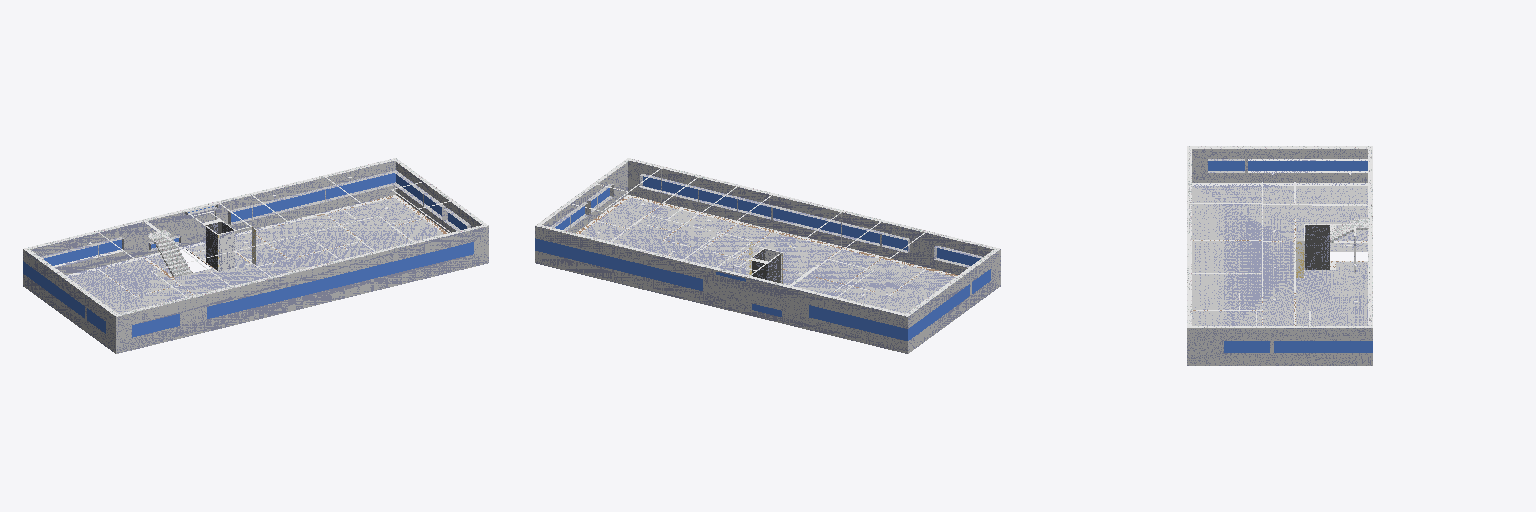
3 views of the same model, side by side, from view 1: azimuth 30°, elevation 25°; view 2: azimuth 150°, elevation 25°; view 3: azimuth 270°, elevation 25° (orthographic).
Parts seen in each view (by area): view 1: Mesh23 Model; view 2: Mesh23 Model; view 3: Mesh23 Model.
Boxes of the visible parts, x1,y1,x2,y2 form: Mesh23 Model: [23, 158, 488, 353]; Mesh23 Model: [535, 158, 1000, 353]; Mesh23 Model: [1187, 146, 1372, 365].
Size of the model in its own units: 31.65 by 3.03 by 13.69.
9 materials, 2 textured.